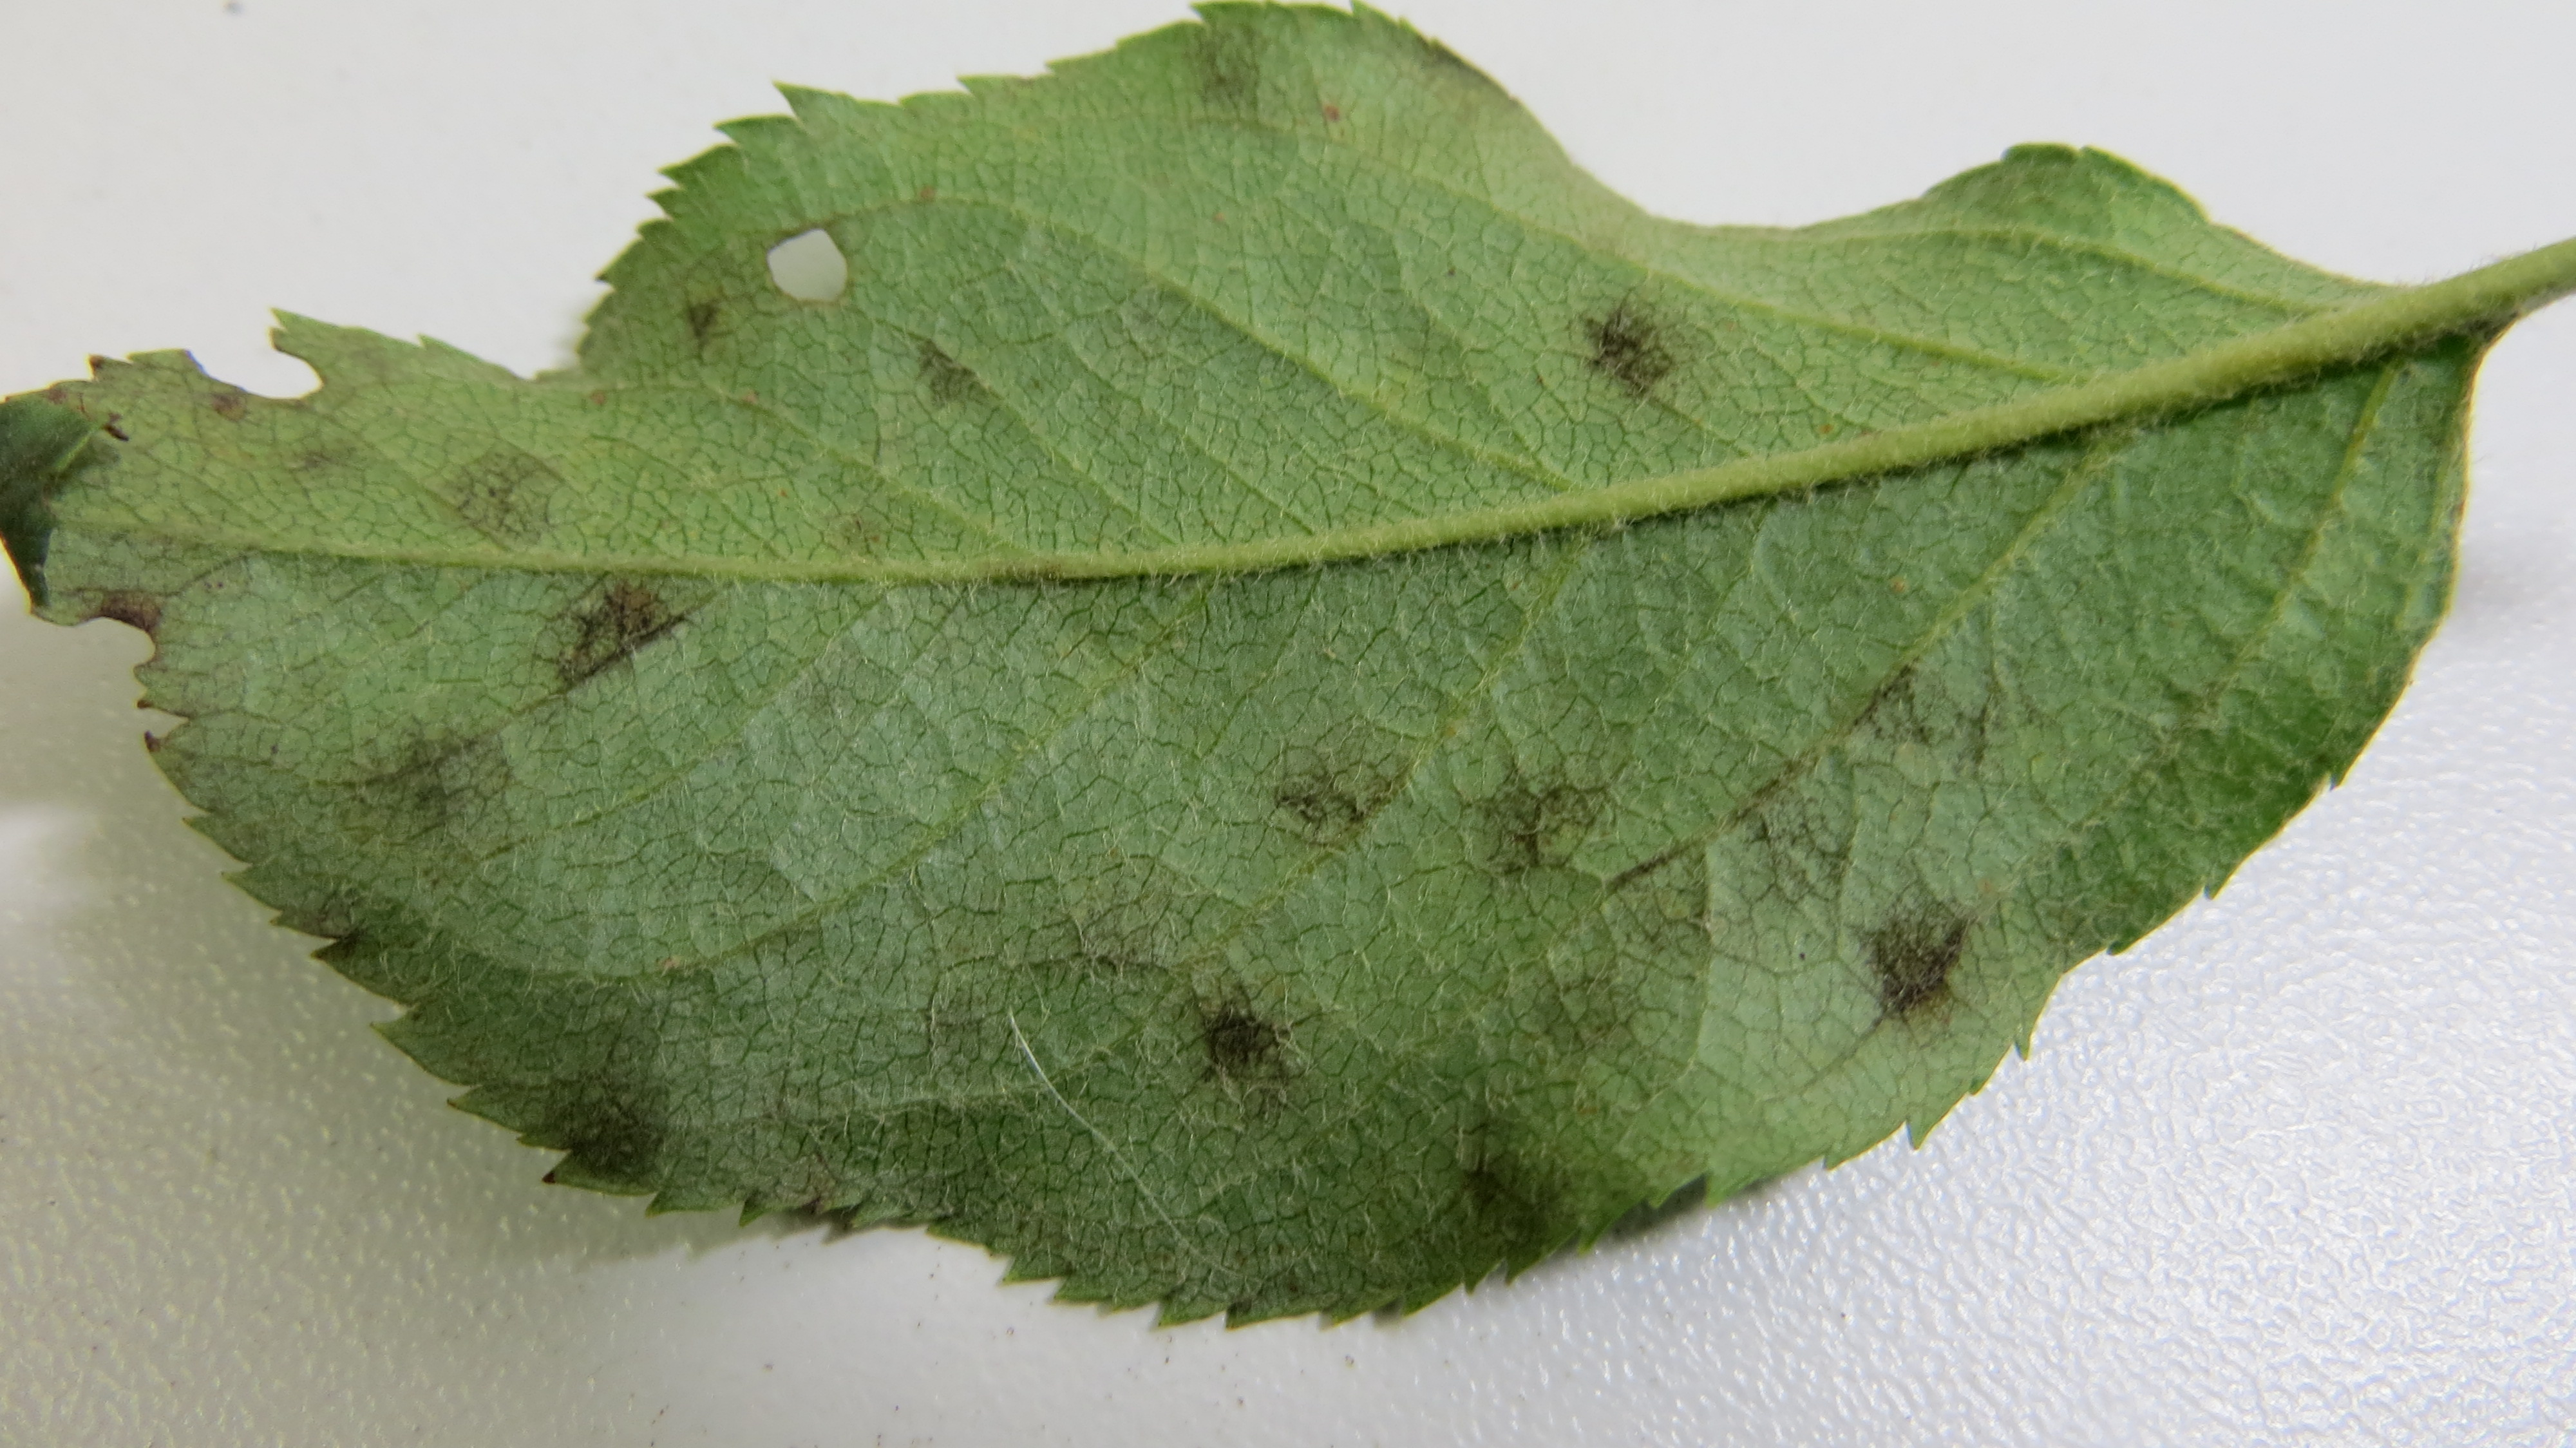sarna: (506, 1043, 665, 1195), (1451, 726, 1612, 876), (334, 710, 518, 837), (1424, 1082, 1553, 1250), (1562, 276, 1702, 416), (432, 434, 573, 566), (538, 574, 688, 694), (1856, 878, 1976, 1028), (1615, 862, 1753, 982), (1269, 728, 1401, 851), (1736, 779, 1858, 906), (1178, 977, 1302, 1101), (1534, 949, 1654, 1074), (271, 876, 402, 979), (1842, 632, 1937, 766), (1182, 25, 1292, 136), (658, 262, 754, 379), (90, 570, 189, 659), (904, 329, 996, 414), (1944, 673, 2010, 786), (278, 409, 354, 501), (186, 377, 274, 448), (78, 402, 161, 464), (830, 506, 899, 572)
